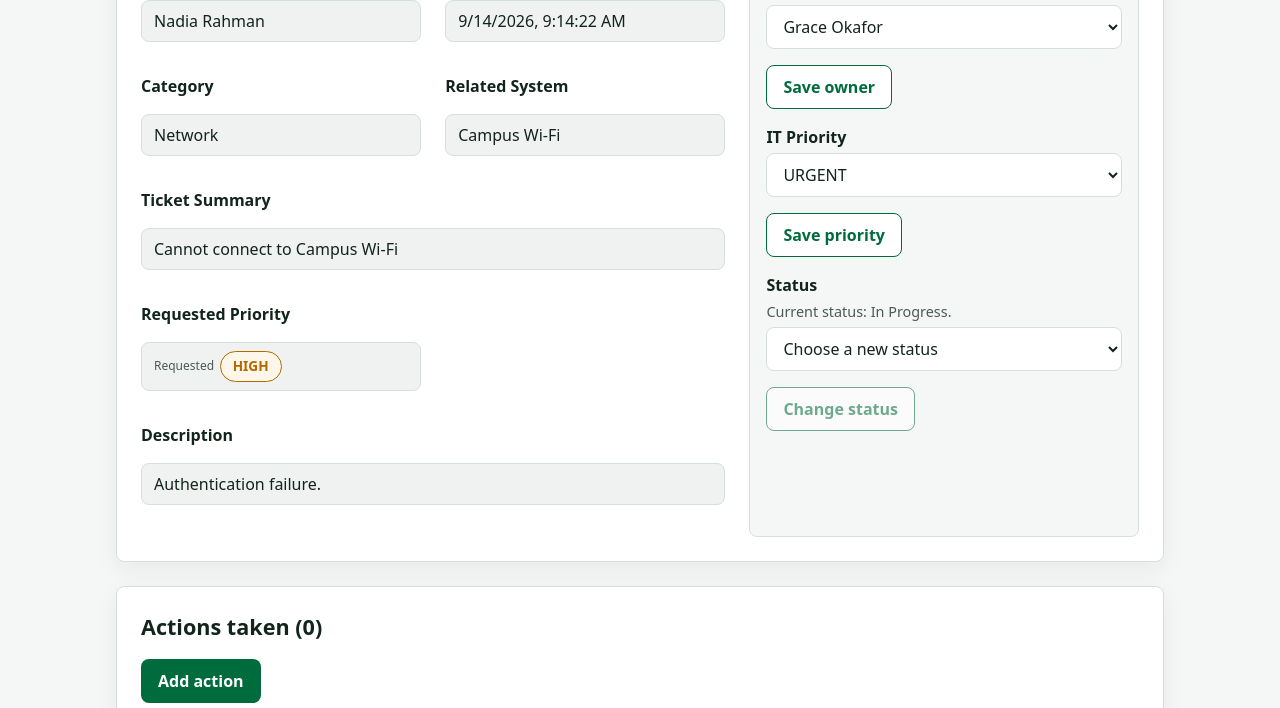
Test: UI-03 a stale screen meets the server's refusal › shows RESOLUTION_BLOCKED's unmet list in the dialog, keeps the summary, and re-reads the gate and Actions
(page scrolled)
Select "Resolved" in the dropdown labelled "Status" at (944, 349), box [766,327,1122,371]
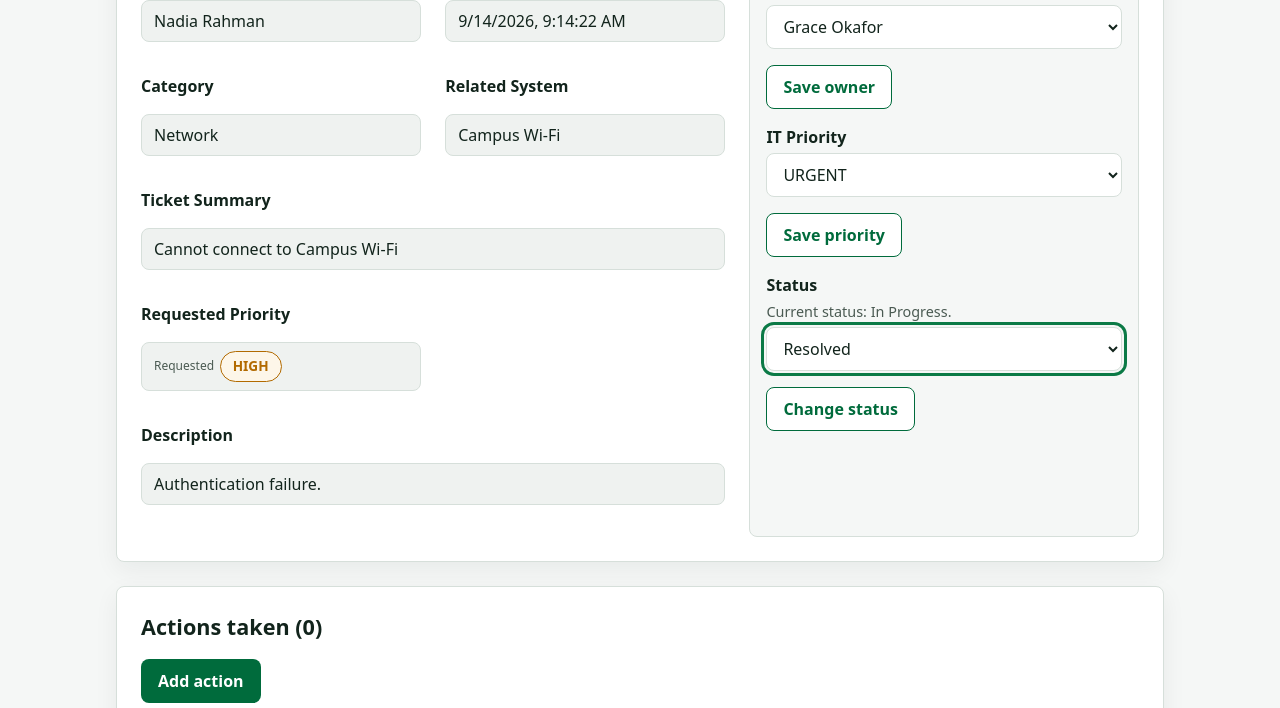
Click the button "Change status" at (841, 409), box [766,387,915,431]
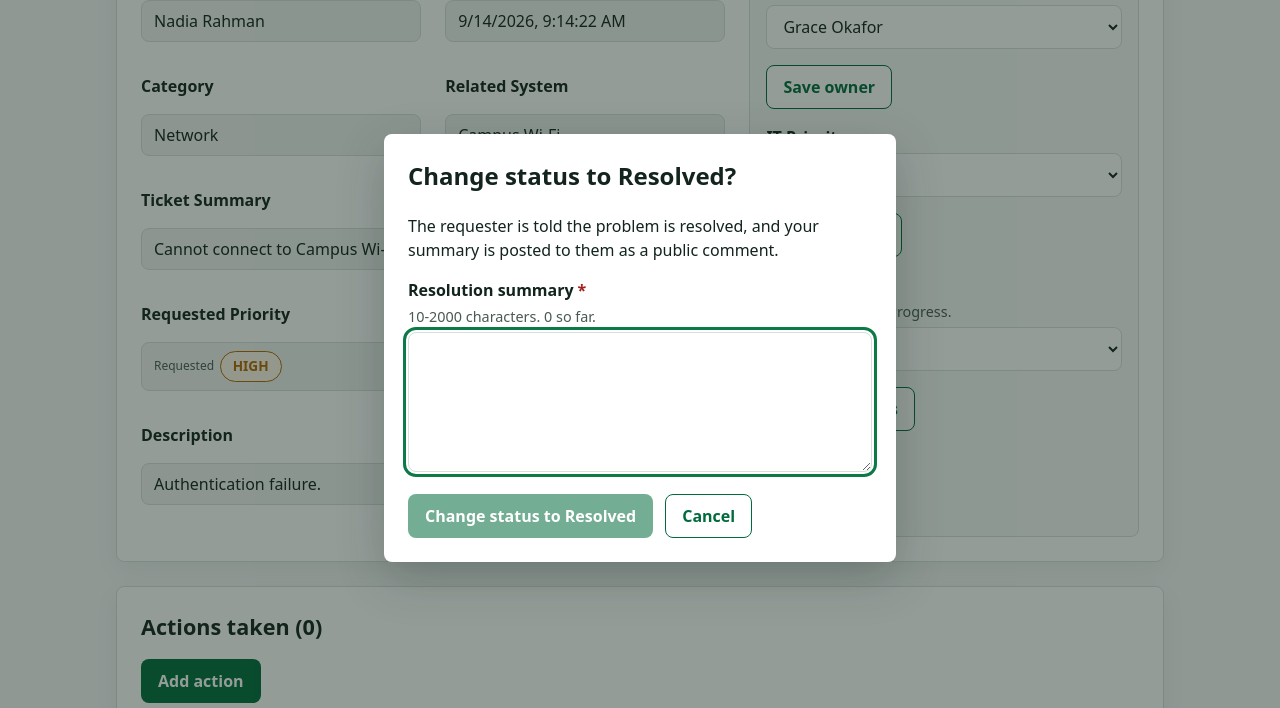
Type "Replaced the access point and confirmed the connection." into the text box labelled "Resolution summary*" at (640, 402), box [408,332,872,472]
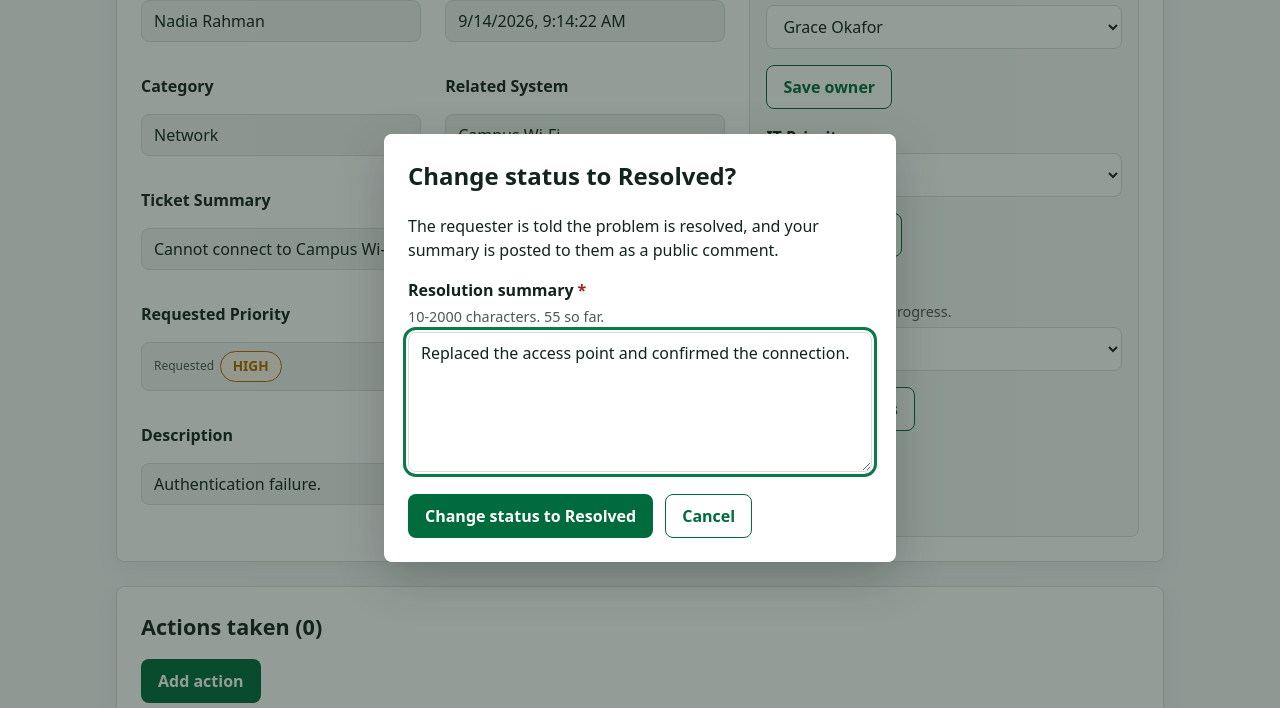
Click the button "Change status to Resolved" at (531, 516), box [408,494,653,538]
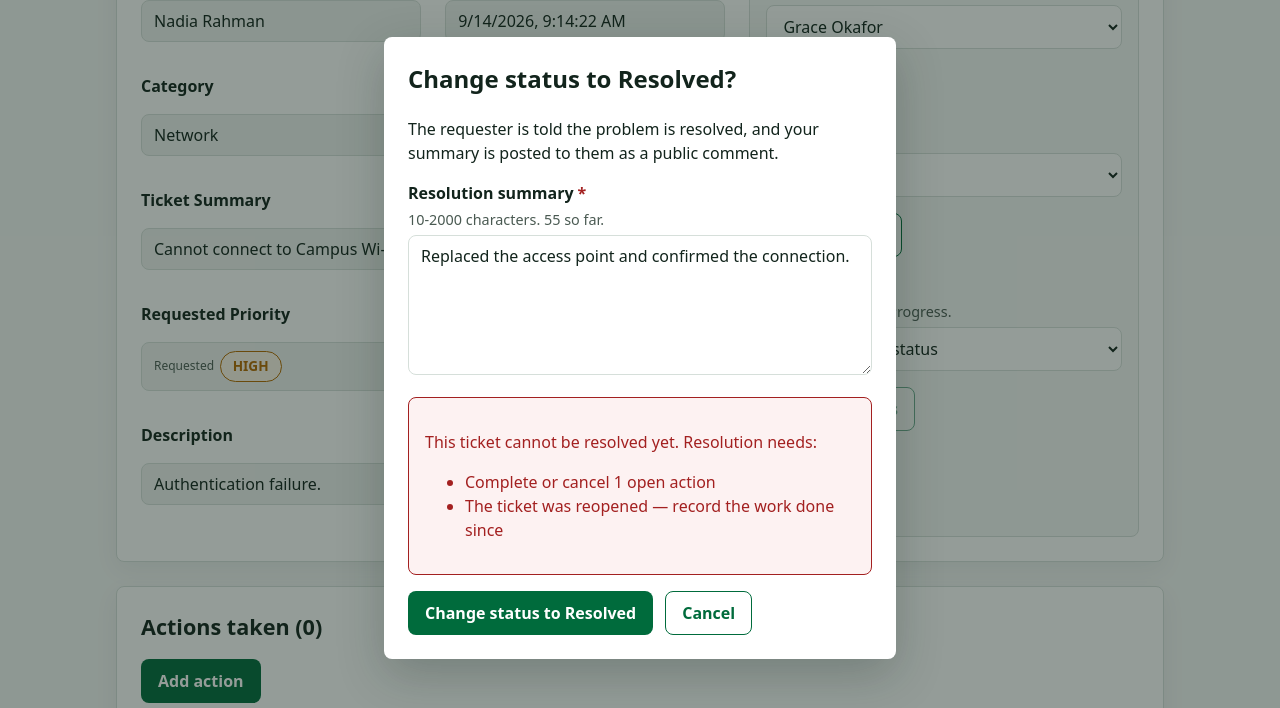
Expected: the list items read "Complete or cancel 1 open action", "The ticket was reopened — record the work done since", in this order, [465,471,716,493]; [465,494,855,542]
